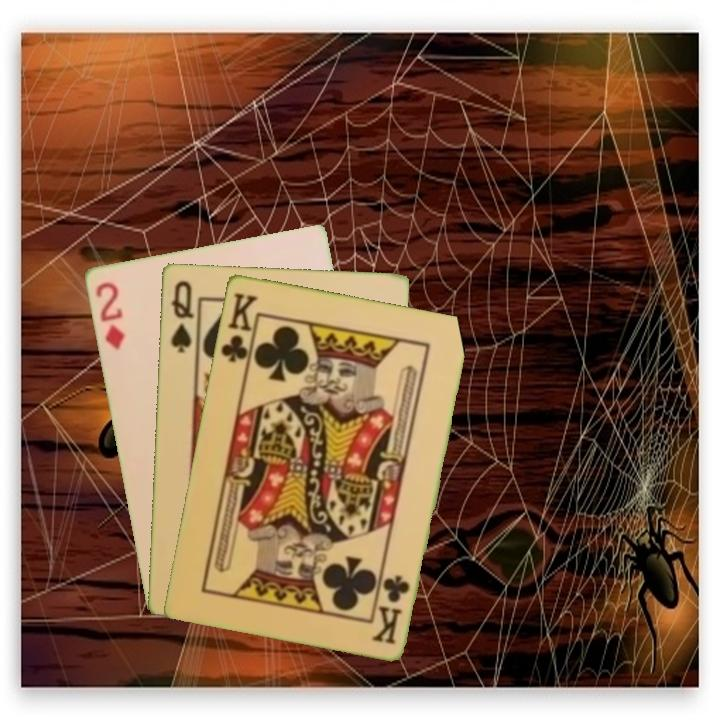2d: (91, 278, 128, 352)
Kc: (217, 288, 260, 371), (370, 571, 412, 647)
Qs: (166, 276, 197, 356)
